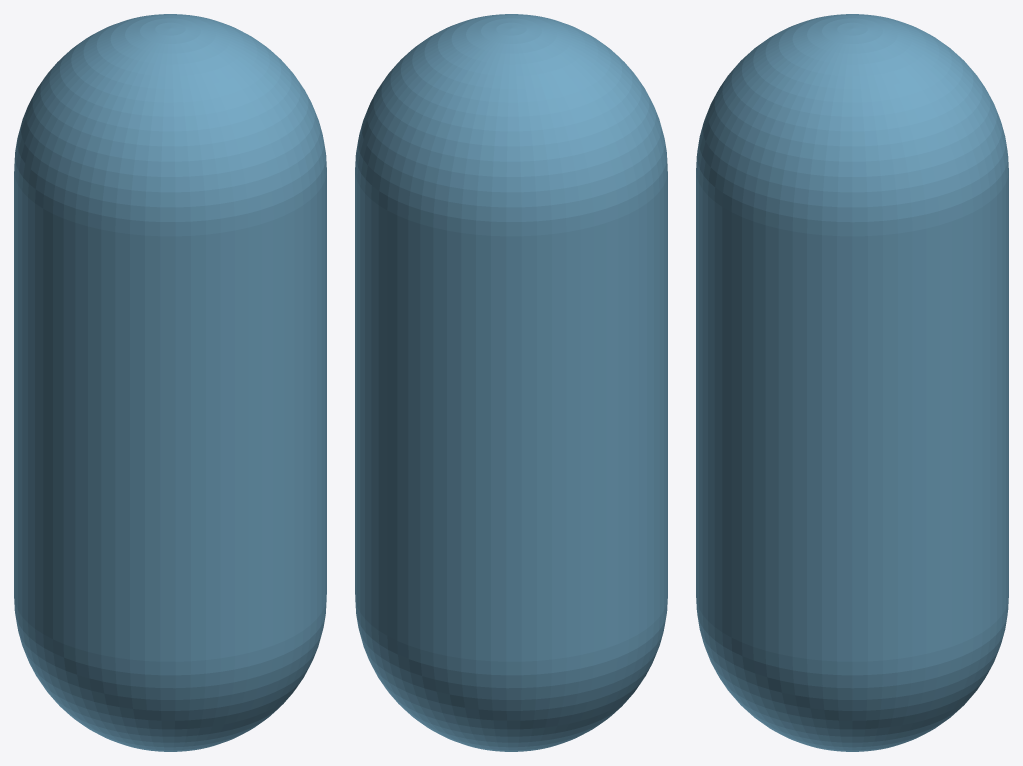
The model's file is estacion4.glb.
The picture shows the model from 3 angles, left to right: view 1: azimuth 30°, elevation 25°; view 2: azimuth 150°, elevation 25°; view 3: azimuth 270°, elevation 25°; orthographic projection.
Visible parts, largest first — view 1: geometry_0; view 2: geometry_0; view 3: geometry_0.
Boxes of the visible parts, bbox=[...] form: geometry_0: bbox=[14, 14, 326, 751]; geometry_0: bbox=[355, 14, 667, 751]; geometry_0: bbox=[696, 14, 1008, 751].
Bounding box in the file's own units: 0.2 × 0.5 × 0.2.
